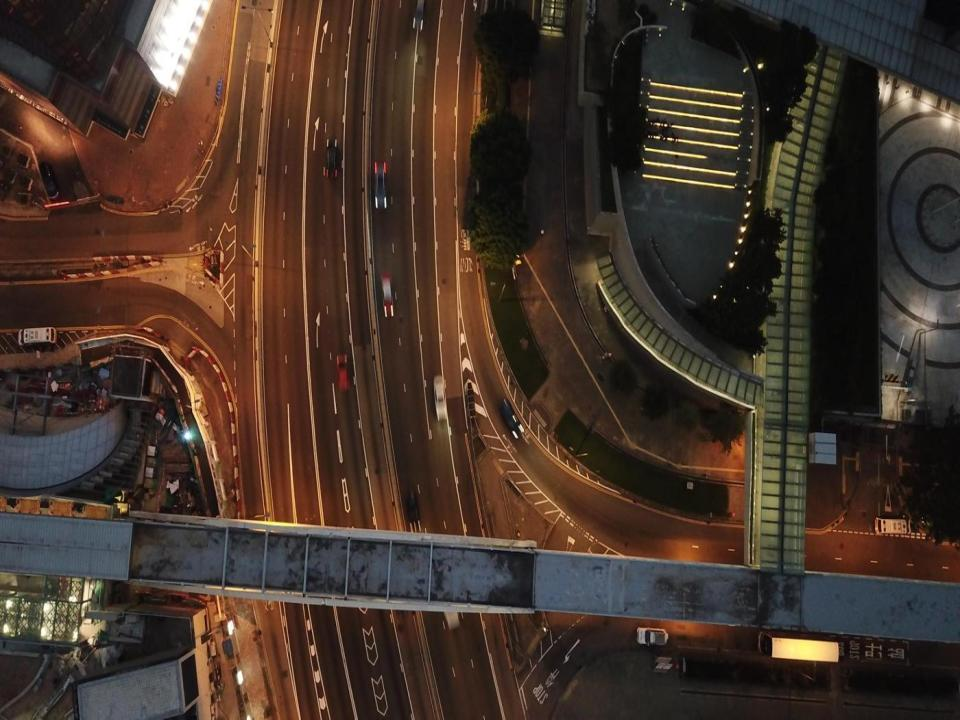bus: (758, 630, 840, 662)
car: (500, 398, 524, 439), (39, 163, 58, 199), (875, 517, 911, 536), (373, 161, 387, 209), (404, 485, 421, 524), (433, 376, 447, 420), (381, 272, 394, 316), (324, 138, 338, 177), (337, 353, 349, 392), (412, 0, 425, 29)
van: (636, 626, 668, 646), (18, 330, 56, 344)
